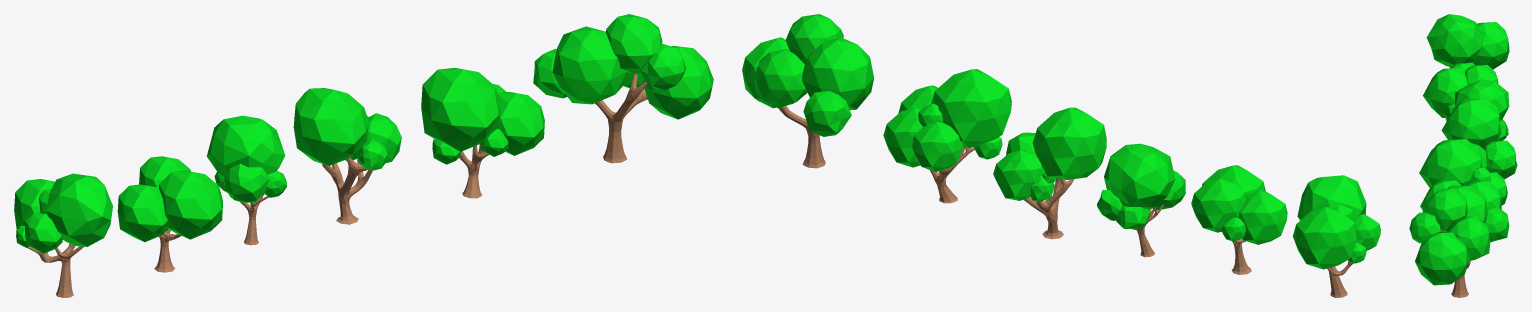
File: basictrees.fbx
3 views of the same model, side by side, from view 1: azimuth 30°, elevation 25°; view 2: azimuth 150°, elevation 25°; view 3: azimuth 270°, elevation 25° (orthographic). The views are drawn at different scales.
Parts seen in each view (by area): view 1: BT1, BT2, BT3, BT6, BT5, BT4; view 2: BT1, BT2, BT3, BT6, BT5, BT4; view 3: BT1, BT2, BT6, BT3, BT5, BT4.
Boxes of the visible parts, bbox=[...] form: BT1: bbox=[533, 14, 713, 163]; BT2: bbox=[421, 67, 544, 198]; BT3: bbox=[293, 88, 401, 224]; BT6: bbox=[14, 173, 112, 297]; BT5: bbox=[117, 156, 223, 272]; BT4: bbox=[206, 115, 286, 245]; BT1: bbox=[742, 14, 873, 168]; BT2: bbox=[883, 69, 1011, 203]; BT3: bbox=[993, 107, 1106, 239]; BT6: bbox=[1293, 175, 1380, 297]; BT5: bbox=[1191, 165, 1287, 274]; BT4: bbox=[1097, 143, 1185, 257]; BT1: bbox=[1409, 185, 1509, 297]; BT2: bbox=[1419, 139, 1507, 209]; BT6: bbox=[1426, 14, 1509, 69]; BT3: bbox=[1441, 98, 1517, 179]; BT5: bbox=[1423, 62, 1498, 117]; BT4: bbox=[1444, 79, 1509, 140].
Size of the model in its own units: 4236 by 913 by 807.
